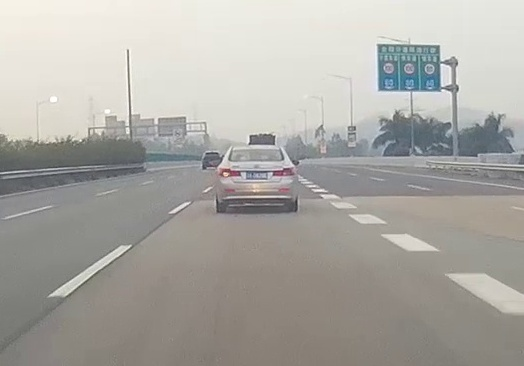L_light: (219, 168, 240, 177)
R_light: (273, 168, 294, 176)
T_light: (252, 149, 264, 152)
day-left: (216, 146, 297, 213)
